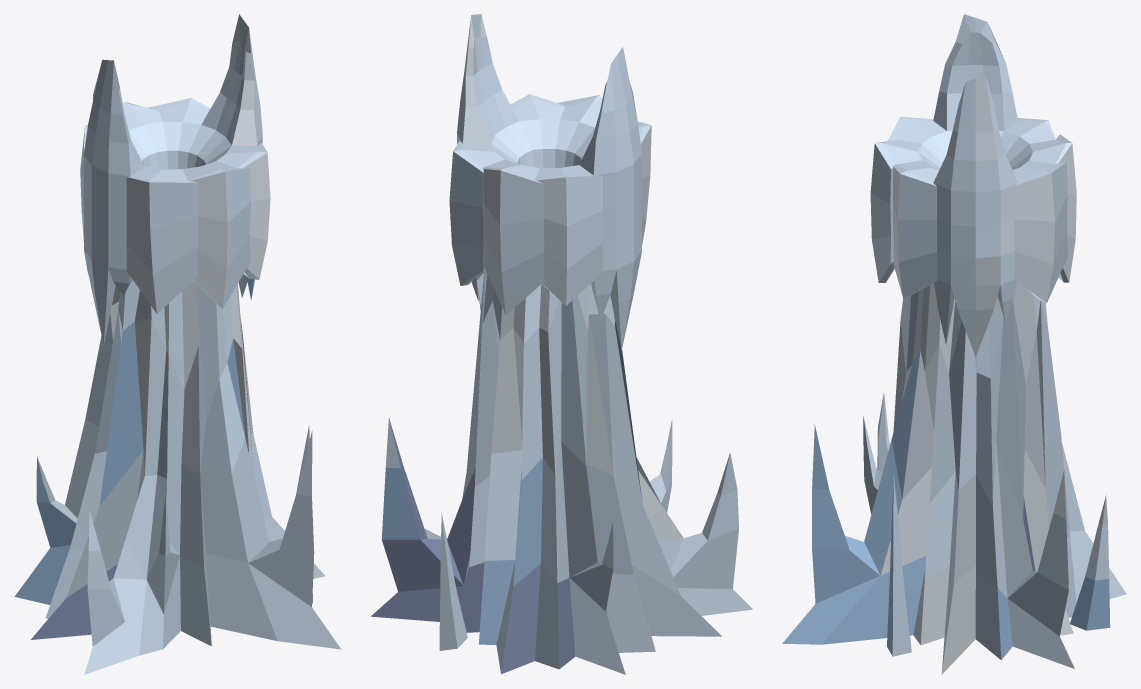
File: Runestrife-Tower-Ice.fbx
3 views of the same model, side by side, from view 1: azimuth 30°, elevation 25°; view 2: azimuth 150°, elevation 25°; view 3: azimuth 270°, elevation 25° (orthographic). The views are drawn at different scales.
Visible parts, largest first — view 1: Tower, Tower Head; view 2: Tower, Tower Head; view 3: Tower, Tower Head.
Boxes of the visible parts, x1,y1,x2,y2 form: Tower: (14, 279, 341, 674); Tower Head: (80, 14, 270, 345); Tower: (371, 265, 752, 674); Tower Head: (449, 14, 651, 350); Tower: (782, 283, 1126, 674); Tower Head: (870, 14, 1076, 356).
Bounding box in the file's own units: 259 × 484 × 263.
